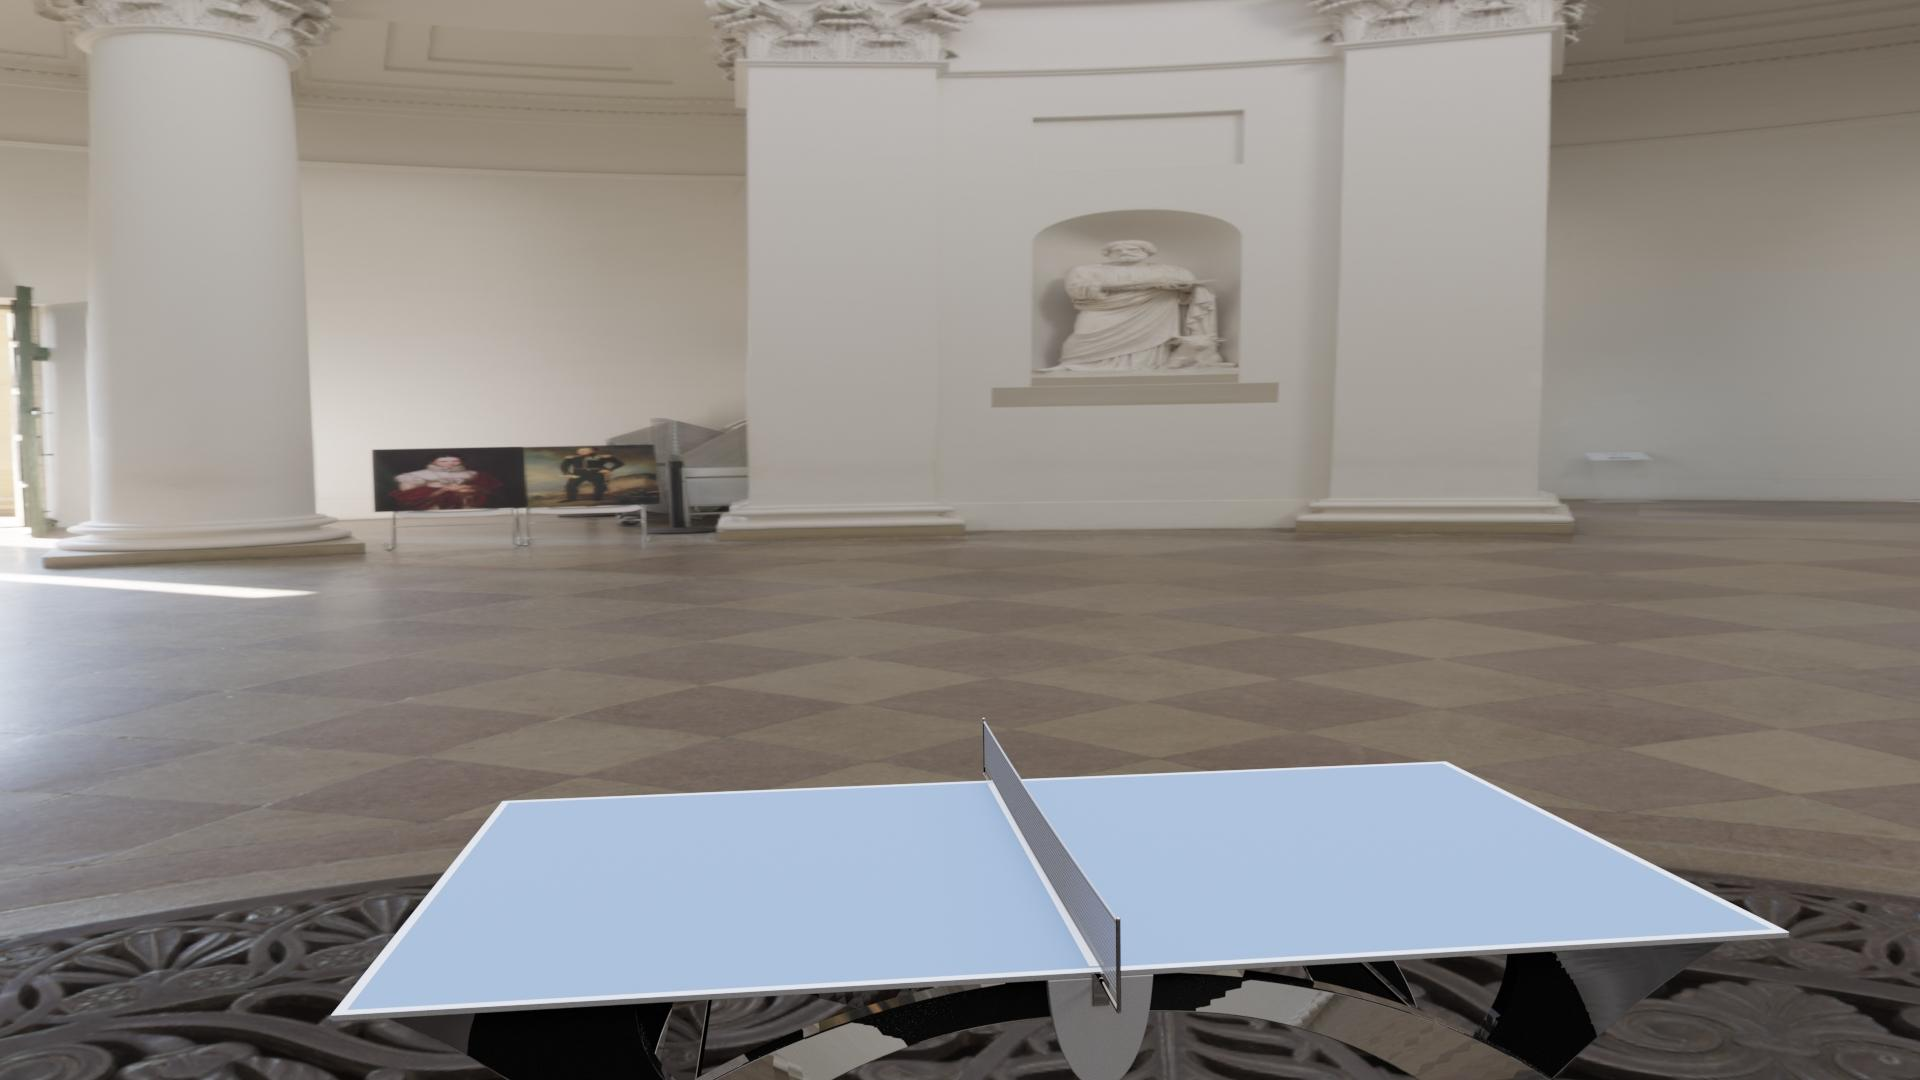table: (346, 763, 1773, 1010)
